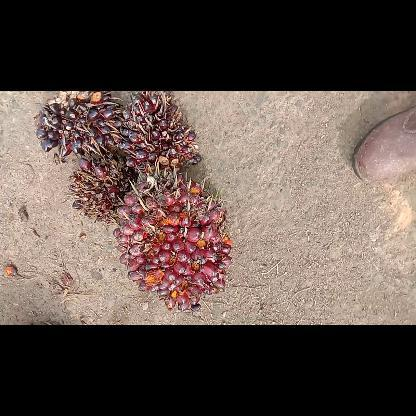TBS abnormal: (123, 91, 201, 169), (35, 90, 119, 158), (70, 156, 128, 220)
TBS masak: (116, 169, 231, 309)
